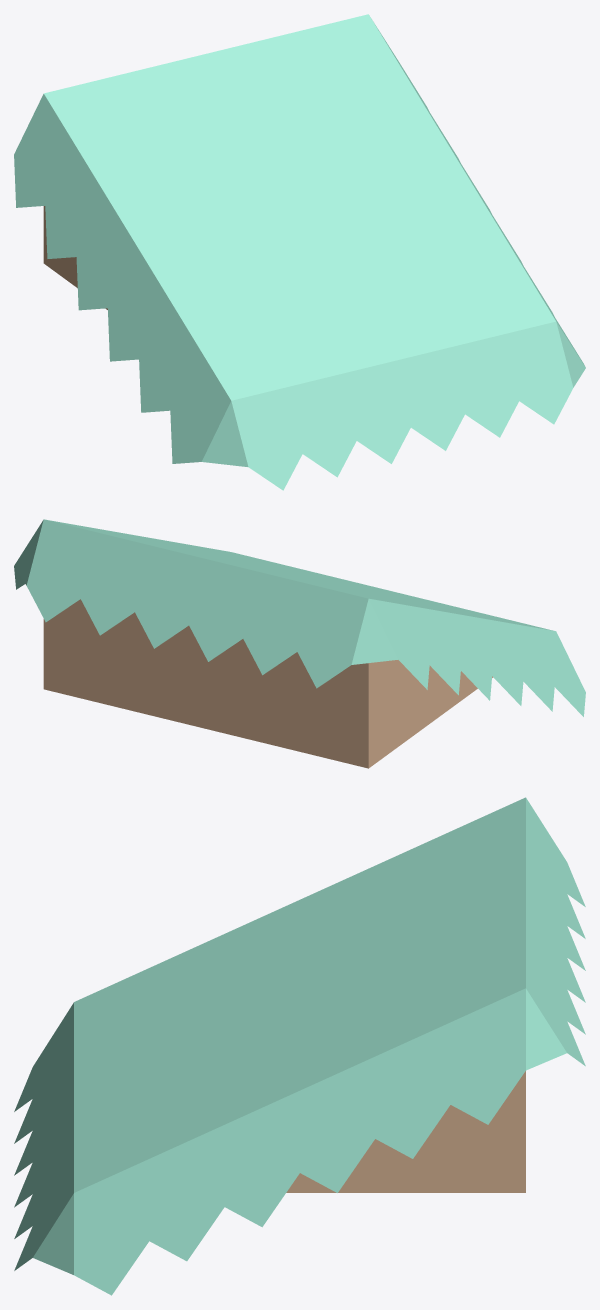
3 views of the same model, one above another, from view 1: azimuth 30°, elevation 25°; view 2: azimuth 150°, elevation 25°; view 3: azimuth 270°, elevation 25° (orthographic). The views are drawn at different scales.
Visible parts, largest first — view 1: blockSlopeHalf; view 2: blockSlopeHalf; view 3: blockSlopeHalf.
Boxes of the visible parts, left/top/right/bottom form: blockSlopeHalf: left=14, top=14, right=585, bottom=490; blockSlopeHalf: left=14, top=519, right=585, bottom=768; blockSlopeHalf: left=14, top=797, right=585, bottom=1295.
Bounding box in the file's own units: 1.27 × 0.7304 × 1.27.
